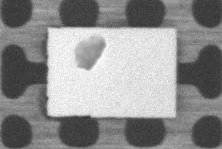DIE_INK: (73, 33, 106, 73)
